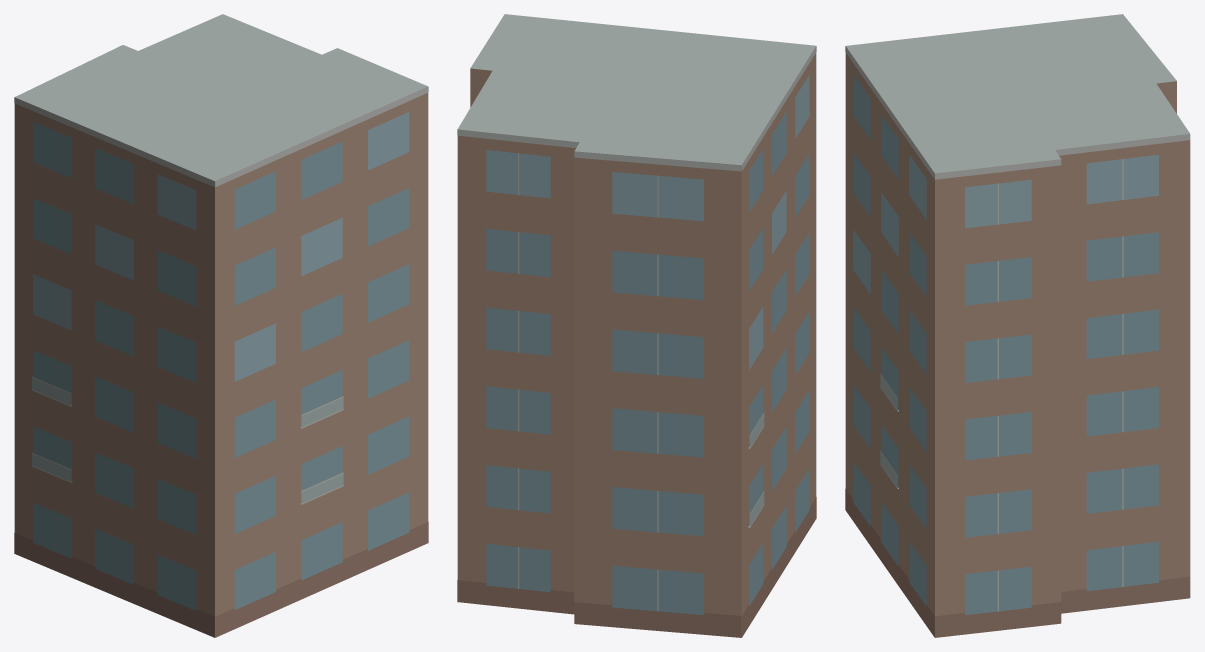
File: survey-upis-32770448.glb
The picture shows the model from 3 angles, left to right: view 1: azimuth 30°, elevation 25°; view 2: azimuth 150°, elevation 25°; view 3: azimuth 270°, elevation 25°; orthographic projection. The views are drawn at different scales.
Parts seen in each view (by area): view 1: survey-upis-32770448.tmp; view 2: survey-upis-32770448.tmp; view 3: survey-upis-32770448.tmp.
Part boxes in pixels (<box>): survey-upis-32770448.tmp: <box>14,14,428,637</box>; survey-upis-32770448.tmp: <box>457,14,816,637</box>; survey-upis-32770448.tmp: <box>845,14,1190,637</box>.
Size of the model in its own units: 13.53 by 18.35 by 12.36.
